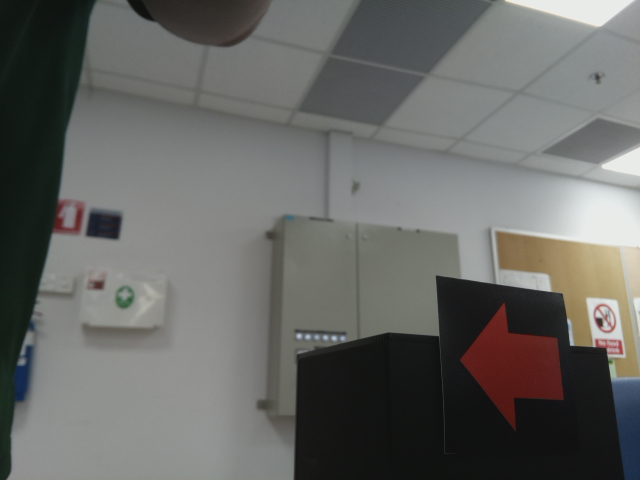left: (453, 298, 570, 437)
